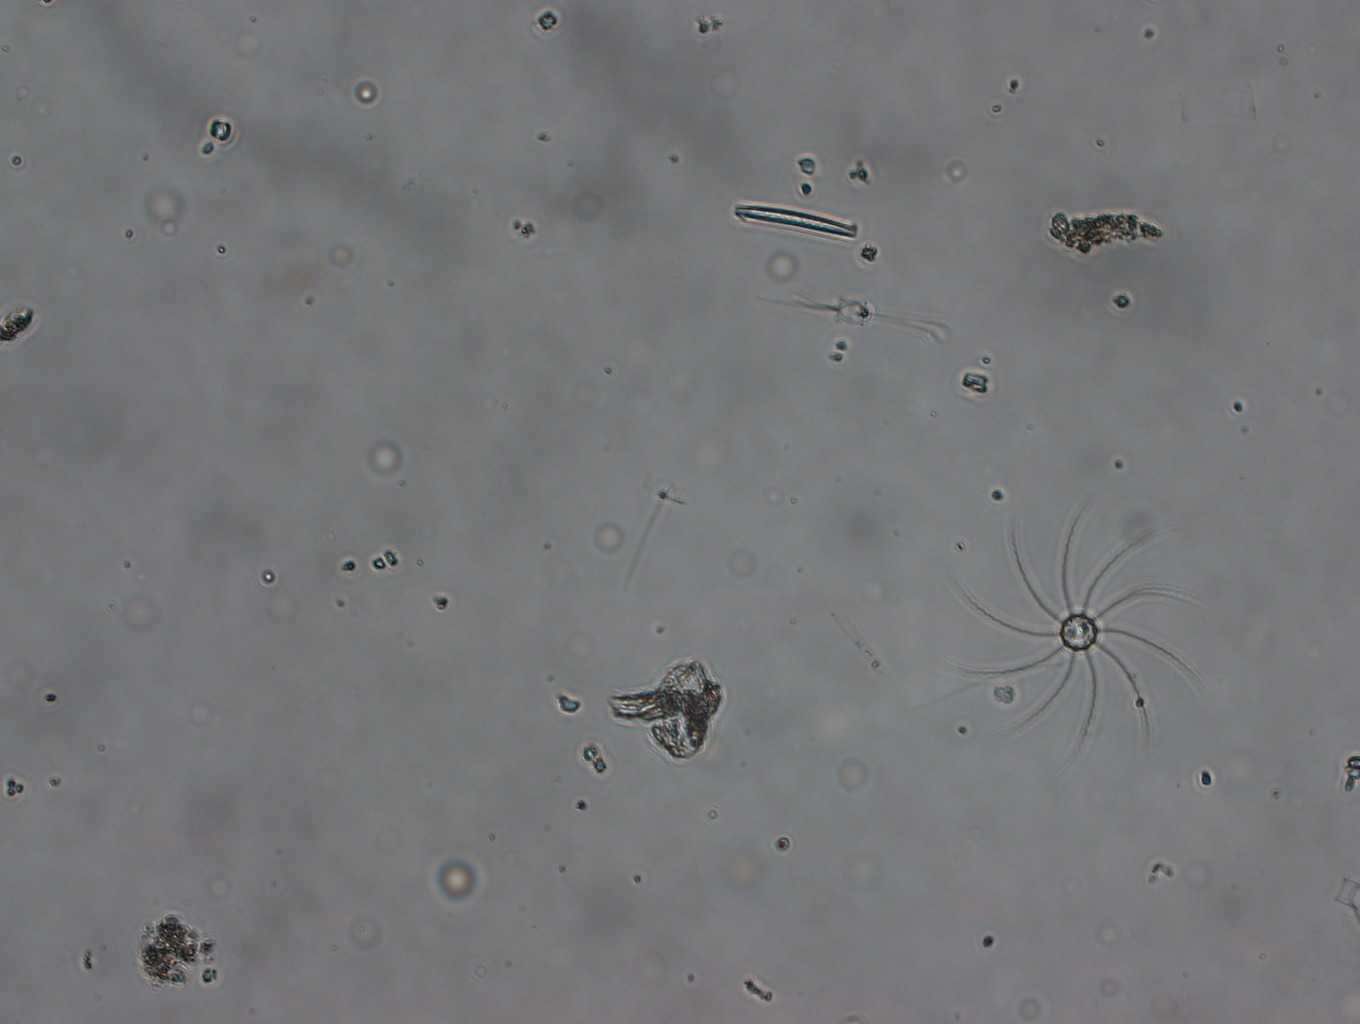bacteriastrum: (946, 503, 1209, 755)
